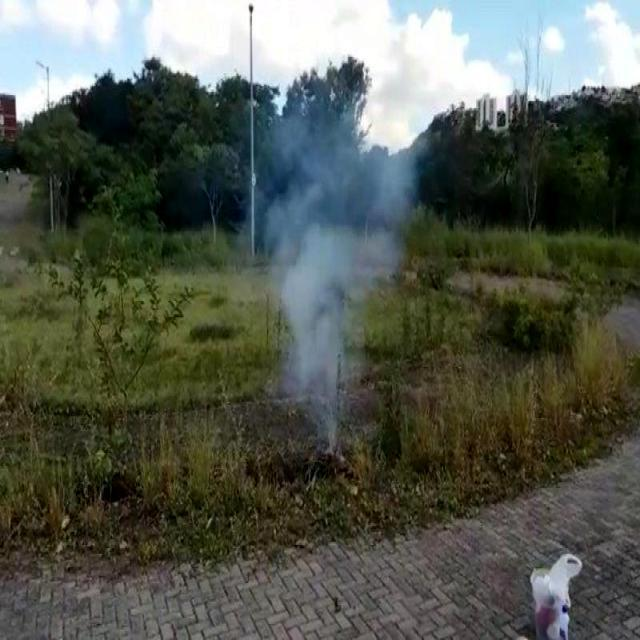Smoke: (253, 84, 420, 438)
